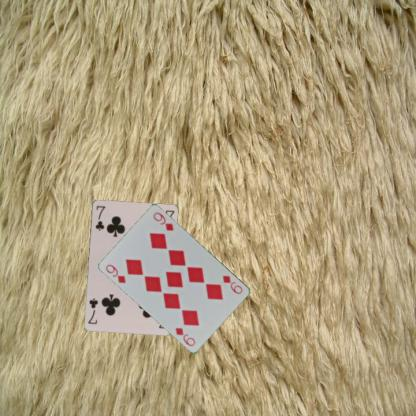7c: (93, 203, 106, 232)
9d: (220, 273, 244, 295), (104, 262, 127, 284)
